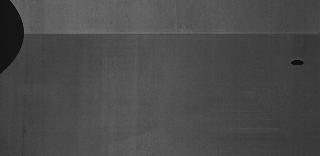punching hole: (286, 58, 306, 68)
welding line: (21, 30, 320, 40)
